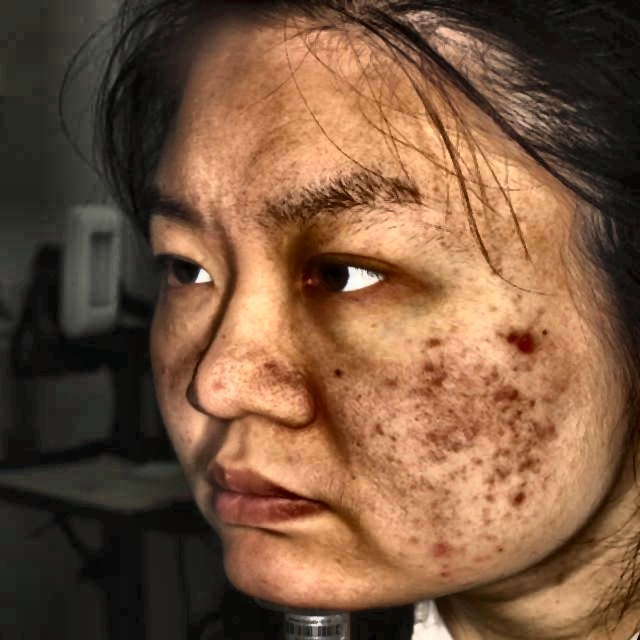pustule: (505, 328, 541, 358), (510, 445, 544, 469), (472, 461, 506, 484), (508, 488, 534, 516), (424, 534, 456, 556), (429, 560, 456, 583), (465, 550, 495, 567), (505, 388, 522, 404)
